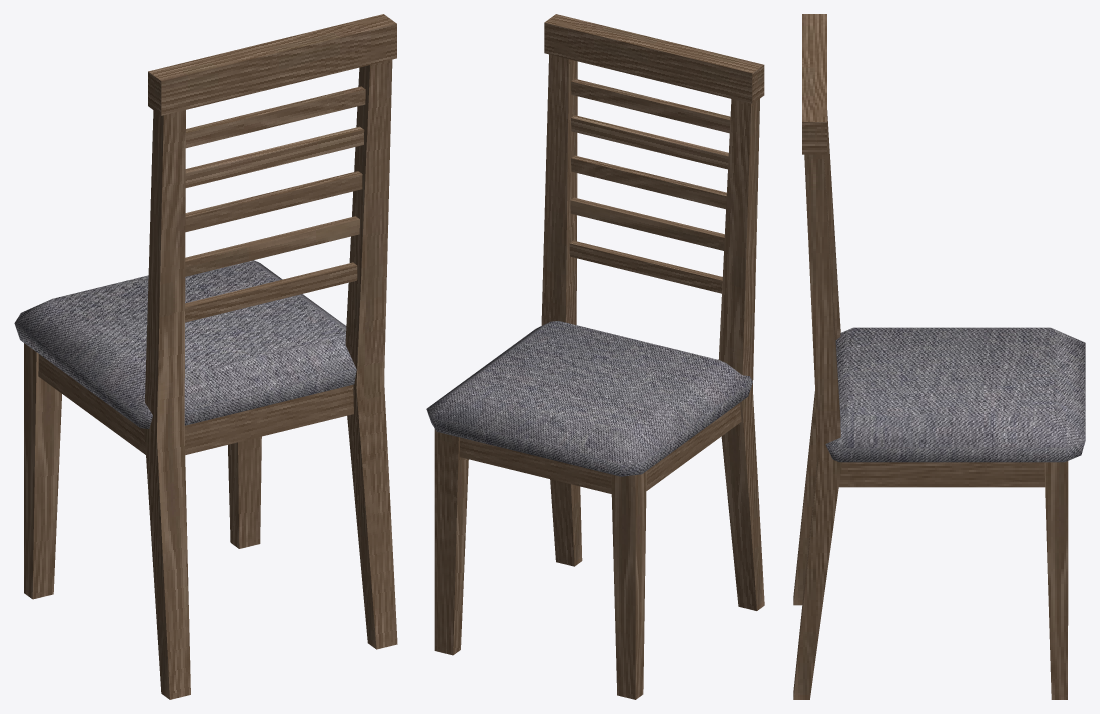
File: Chair.glb
3 renders of one model, left to right at view 1: azimuth 30°, elevation 25°; view 2: azimuth 150°, elevation 25°; view 3: azimuth 270°, elevation 25°, orthographic. The views are drawn at different scales.
Visible parts, largest first — view 1: Chair_05; view 2: Chair_05; view 3: Chair_05.
Part boxes in pixels (x1,y1,x2,y2): Chair_05: (14, 14, 397, 699); Chair_05: (426, 14, 764, 699); Chair_05: (793, 14, 1085, 699).
Size of the model in its own units: 0.5252 by 1.26 by 0.5743.
2 materials, 2 textured.
